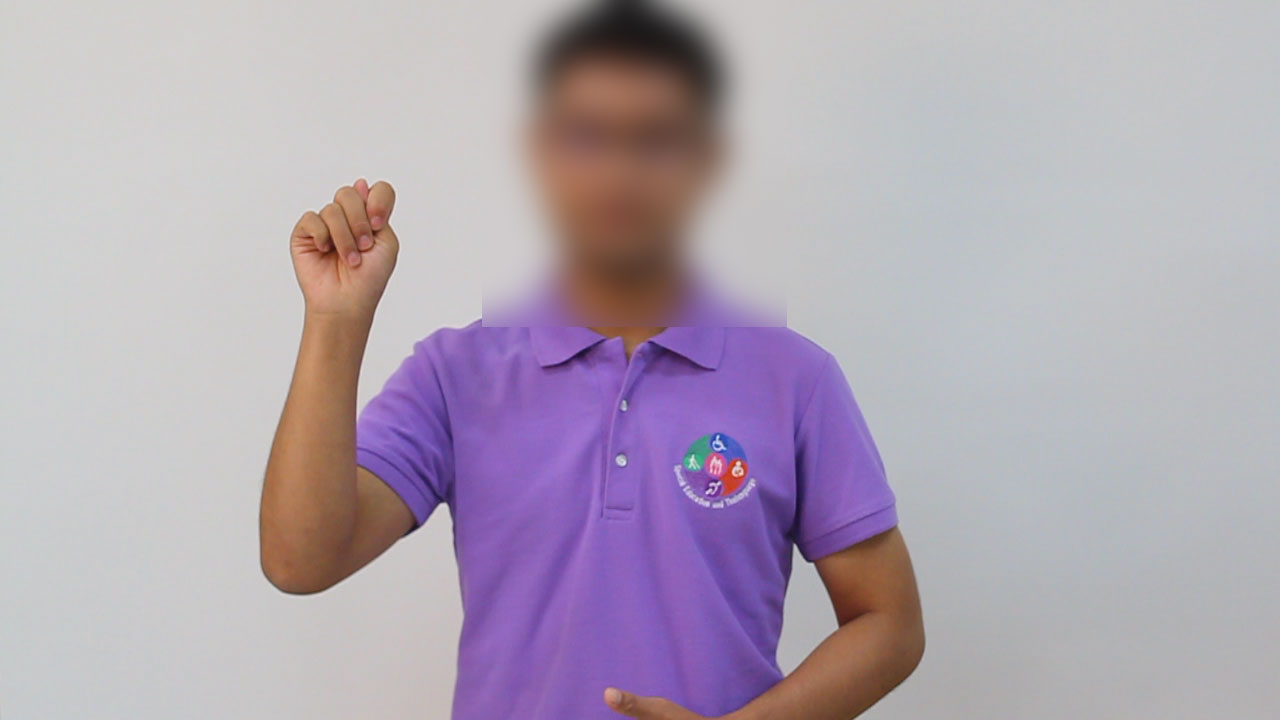tor: (270, 163, 421, 332)
